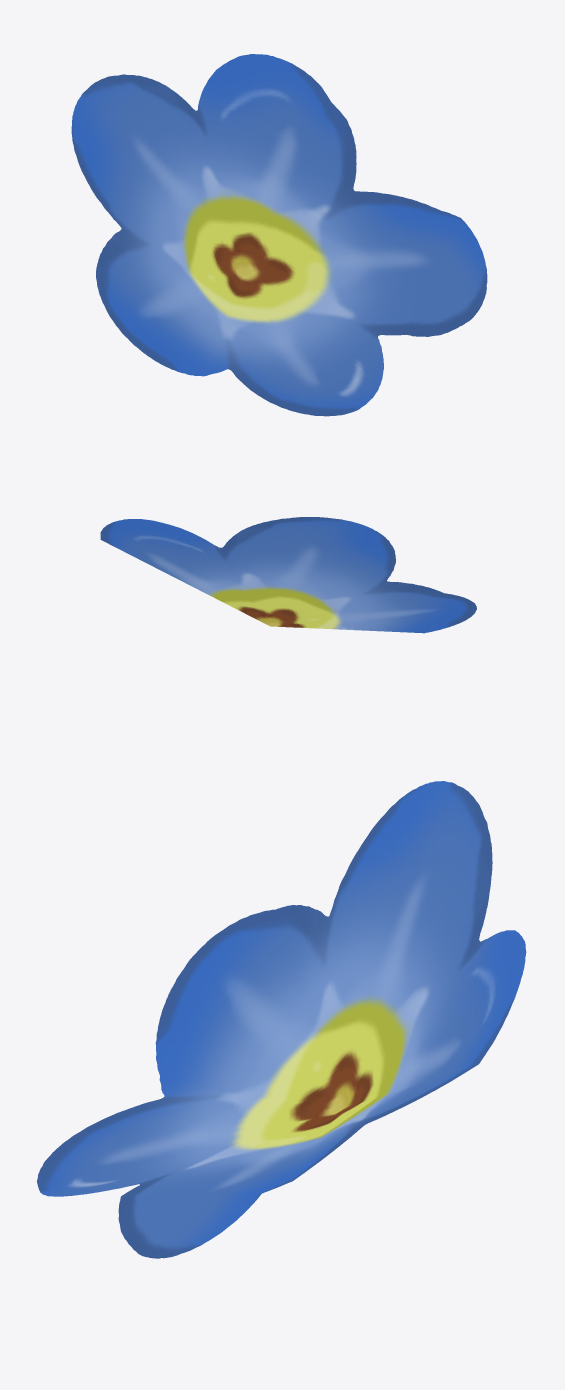
File: Flor_Azul.fbx
3 views of the same model, one above another, from view 1: azimuth 30°, elevation 25°; view 2: azimuth 150°, elevation 25°; view 3: azimuth 270°, elevation 25° (orthographic). The views are drawn at different scales.
Visible parts, largest first — view 1: Flor_Azul; view 2: Flor_Azul; view 3: Flor_Azul.
Part boxes in pixels (x1,y1,x2,y2): Flor_Azul: (71, 54, 487, 416); Flor_Azul: (100, 517, 476, 633); Flor_Azul: (37, 781, 526, 1258).
Bounding box in the file's own units: 67.22 × 52.55 × 56.44.
